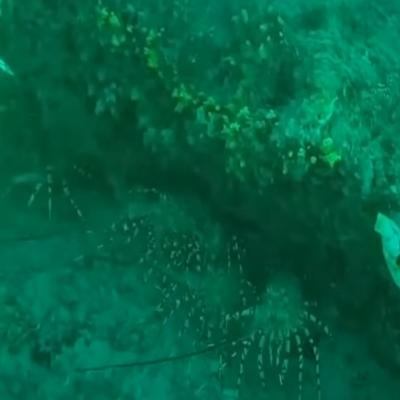lobster: (250, 271, 312, 376)
